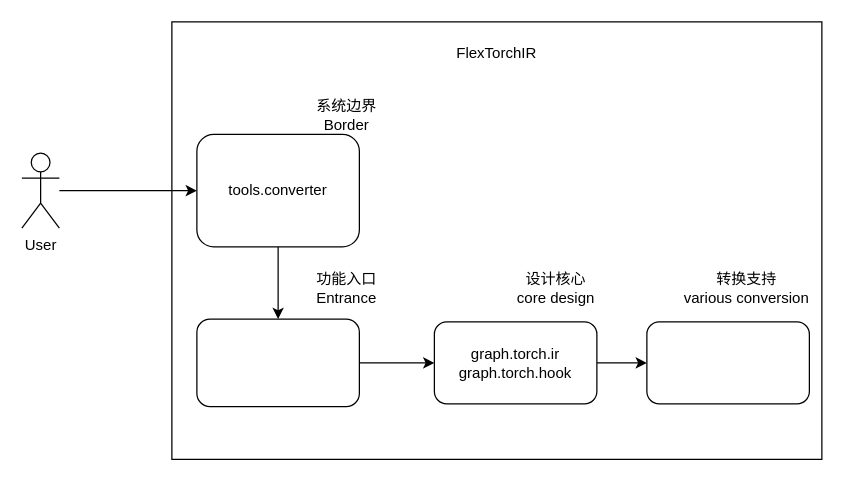
Image size: 844x481. Some labels were removed from this diagram. Each missing label, with the box of its shape:
graph.converter: (196, 318, 359, 407)
graph.torch.convert: (646, 321, 809, 404)
